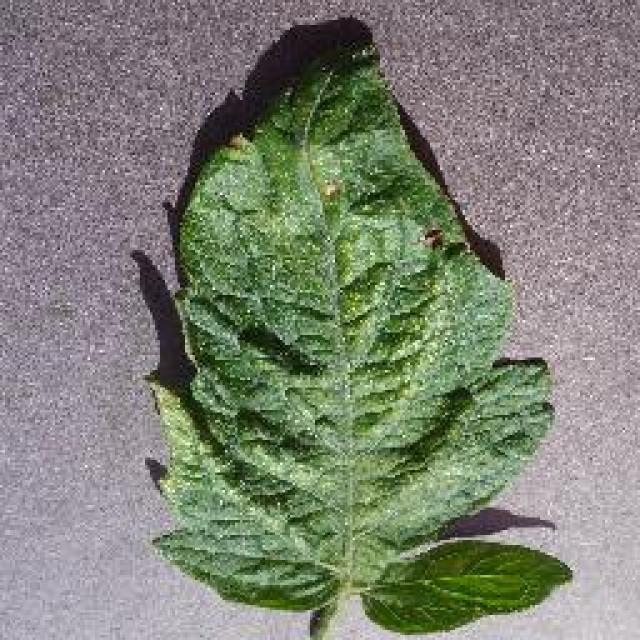Tomato mosaic virus leaf: (143, 44, 575, 636)
